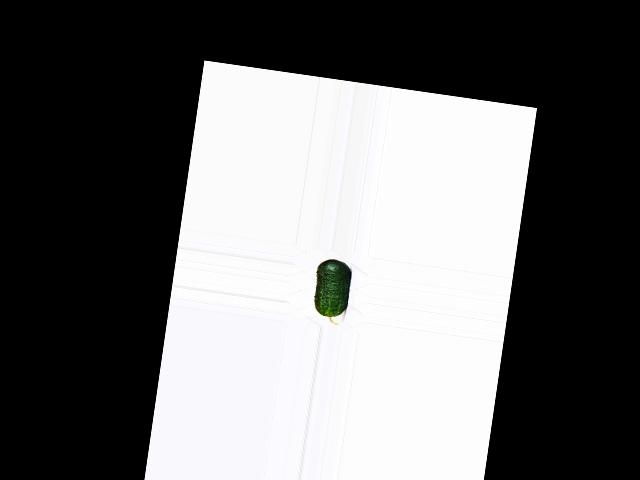cucumber: (310, 257, 353, 325)
